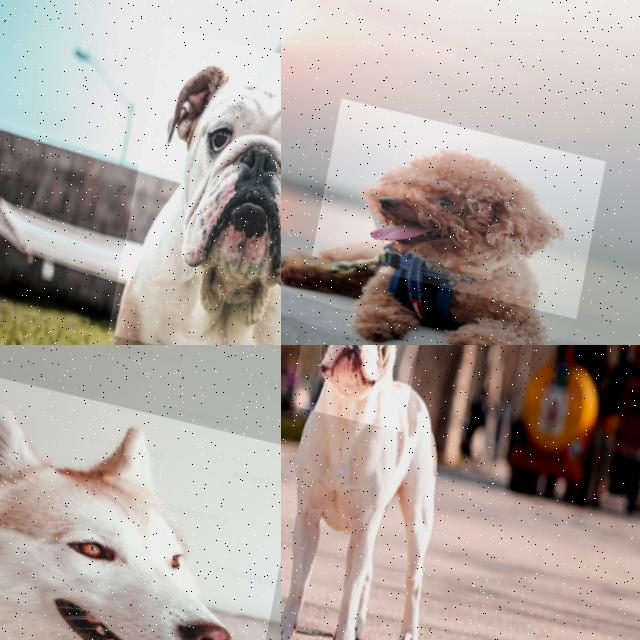bulldog: (104, 21, 281, 345), (286, 345, 442, 430)
husky: (0, 358, 281, 640)
poodle: (310, 96, 606, 316)
